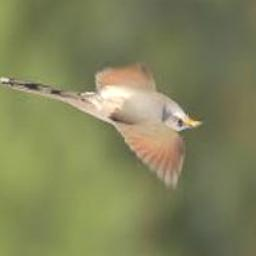Cuckoo: (0, 68, 203, 188)
